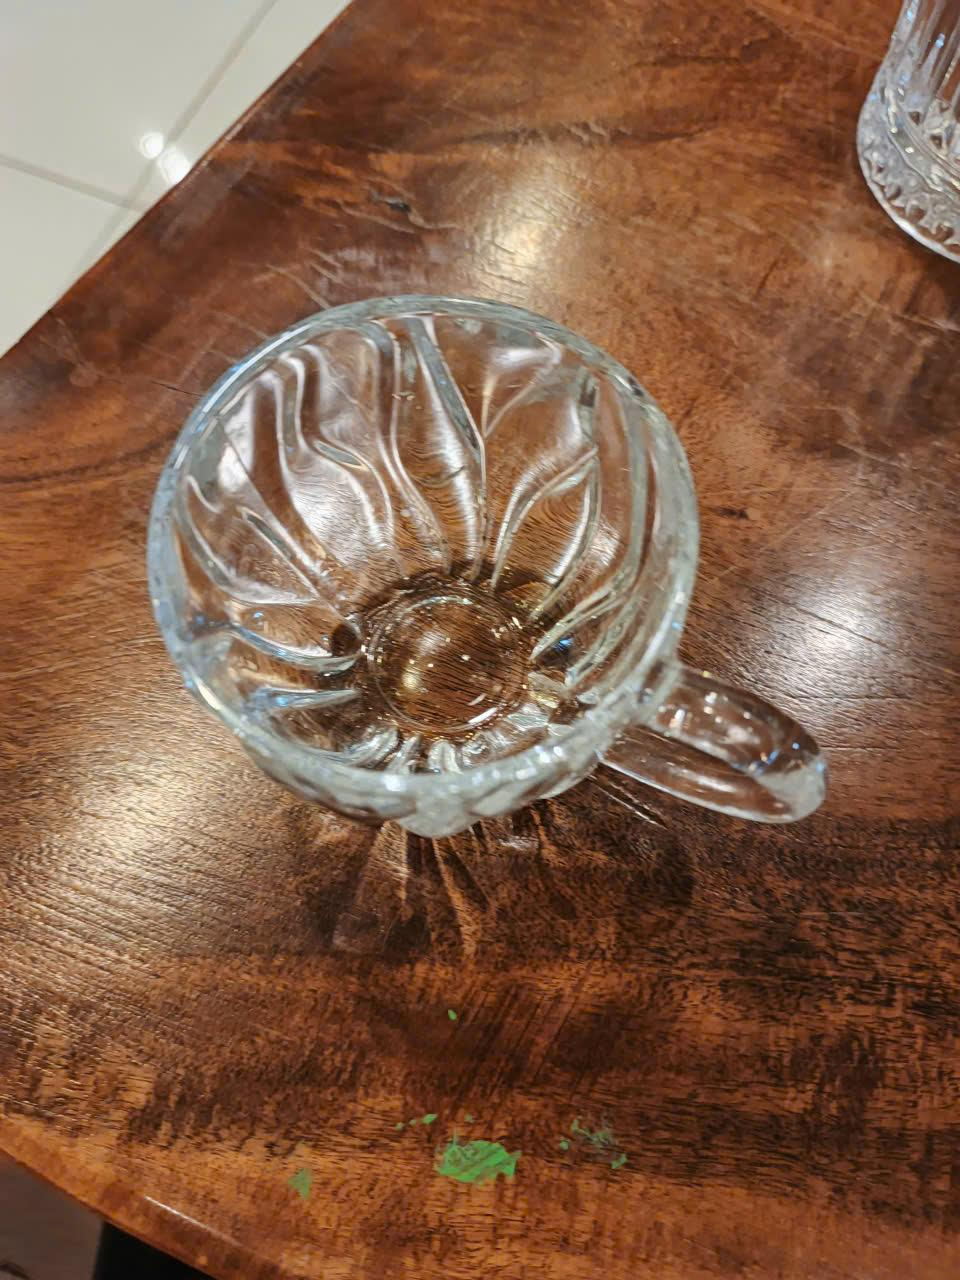Vo co: (152, 298, 824, 843)
